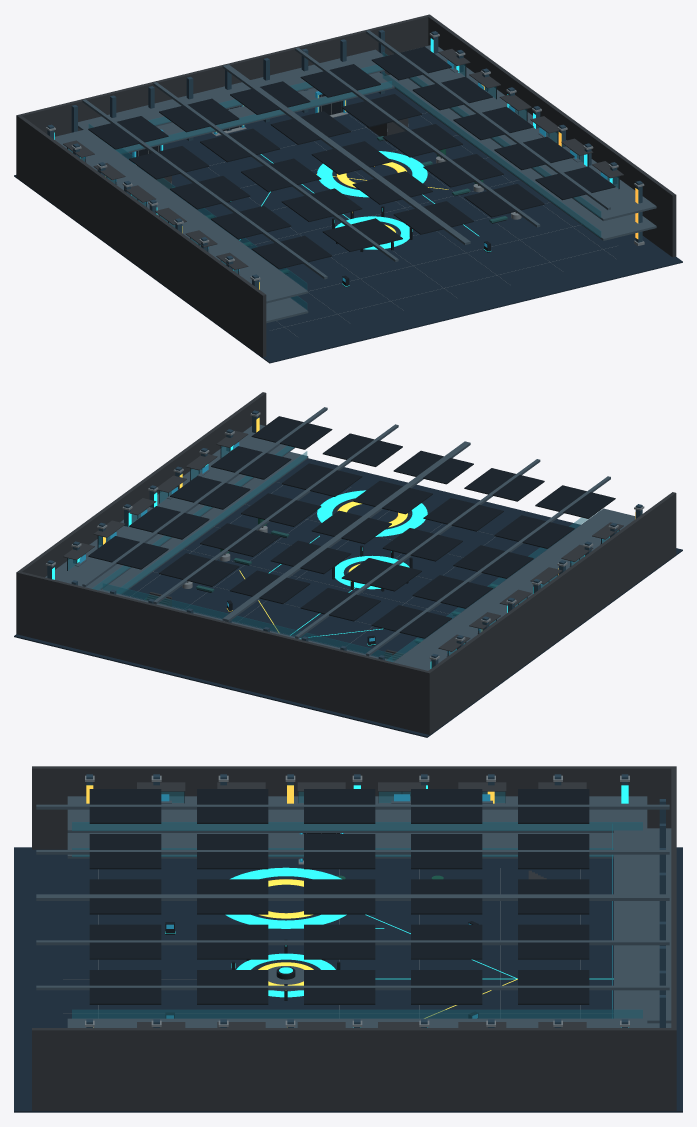
File: orgintel-headquarters-atrium-production.glb
3 views of the same model, one above another, from view 1: azimuth 30°, elevation 25°; view 2: azimuth 150°, elevation 25°; view 3: azimuth 270°, elevation 25° (orthographic). The views are drawn at different scales.
Visible parts, largest first — view 1: ATRIUM_Floor, ATRIUM_LeftWall, ATRIUM_BackWall, ATRIUM_RightWall, BALCONY_L2_Left_Deck, BALCONY_L2_Right_Deck, BALCONY_L1_Right_Deck, BALCONY_L2_Back_Deck, BALCONY_L1_Back_Deck, CEILING_Spine, BALCONY_L1_Right_GlassRail, BALCONY_L1_Back_GlassRail (+34 smaller); view 2: ATRIUM_BackWall, ATRIUM_Floor, ATRIUM_LeftWall, BALCONY_L2_Left_Deck, ATRIUM_RightWall, BALCONY_L2_Right_Deck, BALCONY_L1_Right_Deck, BALCONY_L2_Back_GlassRail, CEILING_Spine, CEILING_Coffer_-24_-4, CEILING_Coffer_24_-28, CEILING_Coffer_24_44 (+31 smaller); view 3: ATRIUM_Floor, ATRIUM_RightWall, ATRIUM_LeftWall, BALCONY_L2_Left_Deck, BALCONY_L2_Back_Deck, BALCONY_L2_Right_GlassRail, BALCONY_L1_Left_Deck, BALCONY_L2_Left_GlassRail, BALCONY_L2_Right_Deck, CEILING_Spine, CEILING_Beam_-48, CEILING_Beam_24 (+32 smaller).
Boxes of the visible parts, box(x1,y1,x2,y2) form: ATRIUM_Floor: box(14, 88, 682, 363); ATRIUM_LeftWall: box(17, 115, 266, 357); ATRIUM_BackWall: box(16, 14, 431, 177); ATRIUM_RightWall: box(428, 16, 676, 257); BALCONY_L2_Left_Deck: box(55, 130, 308, 303); BALCONY_L2_Right_Deck: box(408, 45, 656, 221); BALCONY_L1_Right_Deck: box(382, 74, 656, 240); BALCONY_L2_Back_Deck: box(78, 49, 384, 139); BALCONY_L1_Back_Deck: box(102, 72, 394, 154); CEILING_Spine: box(222, 64, 470, 244); BALCONY_L1_Right_GlassRail: box(382, 72, 601, 237); BALCONY_L1_Back_GlassRail: box(116, 81, 392, 153); ATRIUM_BackWall: box(16, 571, 431, 734); ATRIUM_Floor: box(14, 458, 682, 737); ATRIUM_LeftWall: box(428, 492, 676, 733); BALCONY_L2_Left_Deck: box(393, 508, 635, 670); ATRIUM_RightWall: box(19, 392, 266, 577); BALCONY_L2_Right_Deck: box(45, 424, 294, 590); BALCONY_L1_Right_Deck: box(102, 452, 308, 594); BALCONY_L2_Back_GlassRail: box(102, 583, 392, 659); CEILING_Spine: box(222, 441, 470, 621); CEILING_Coffer_-24_-4: box(382, 528, 462, 561); CEILING_Coffer_24_-28: box(200, 523, 280, 556); CEILING_Coffer_24_44: box(322, 433, 402, 466); ATRIUM_Floor: box(14, 847, 682, 1112); ATRIUM_RightWall: box(32, 1028, 673, 1110); ATRIUM_LeftWall: box(32, 766, 673, 849); BALCONY_L2_Left_Deck: box(67, 796, 647, 832); BALCONY_L2_Back_Deck: box(614, 828, 671, 1023); BALCONY_L2_Right_GlassRail: box(72, 1009, 642, 1018); BALCONY_L1_Left_Deck: box(67, 833, 613, 858); BALCONY_L2_Left_GlassRail: box(72, 822, 642, 830); BALCONY_L2_Right_Deck: box(67, 1018, 647, 1027); CEILING_Spine: box(36, 894, 669, 900); CEILING_Beam_-48: box(36, 804, 669, 809); CEILING_Beam_24: box(36, 940, 669, 945).
Bounding box in the file's own units: 140 × 20.91 × 150.
